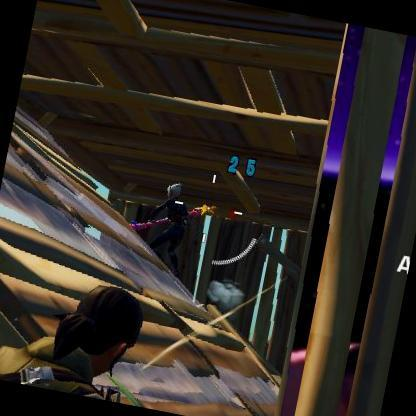person: (0, 262, 161, 406), (126, 176, 198, 280)
